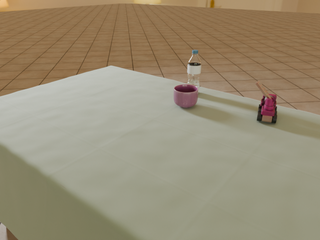bottle: (187, 50, 201, 89)
cup: (174, 84, 199, 108)
toy_car: (256, 81, 277, 123)
